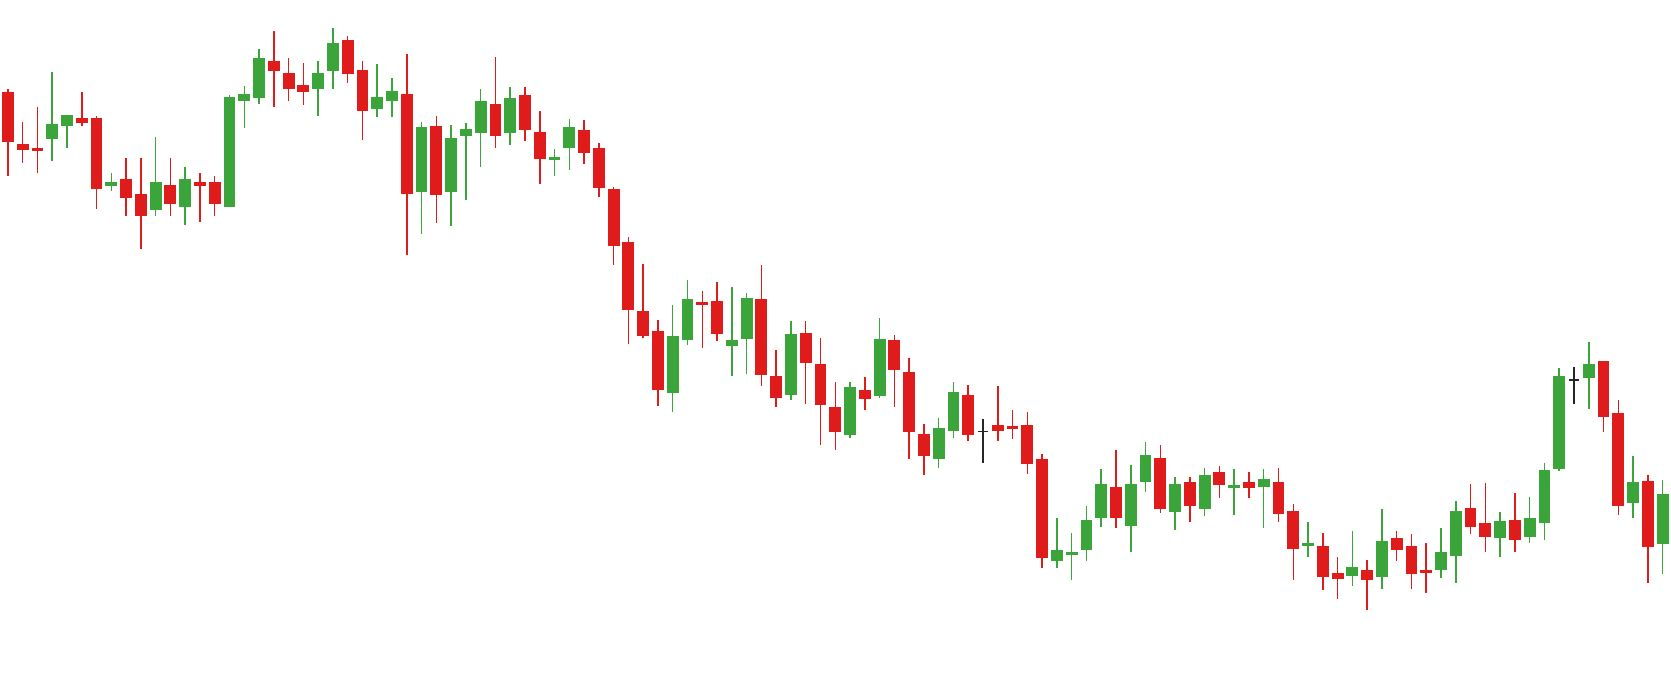sell: (783, 312, 901, 416), (265, 20, 356, 97)
